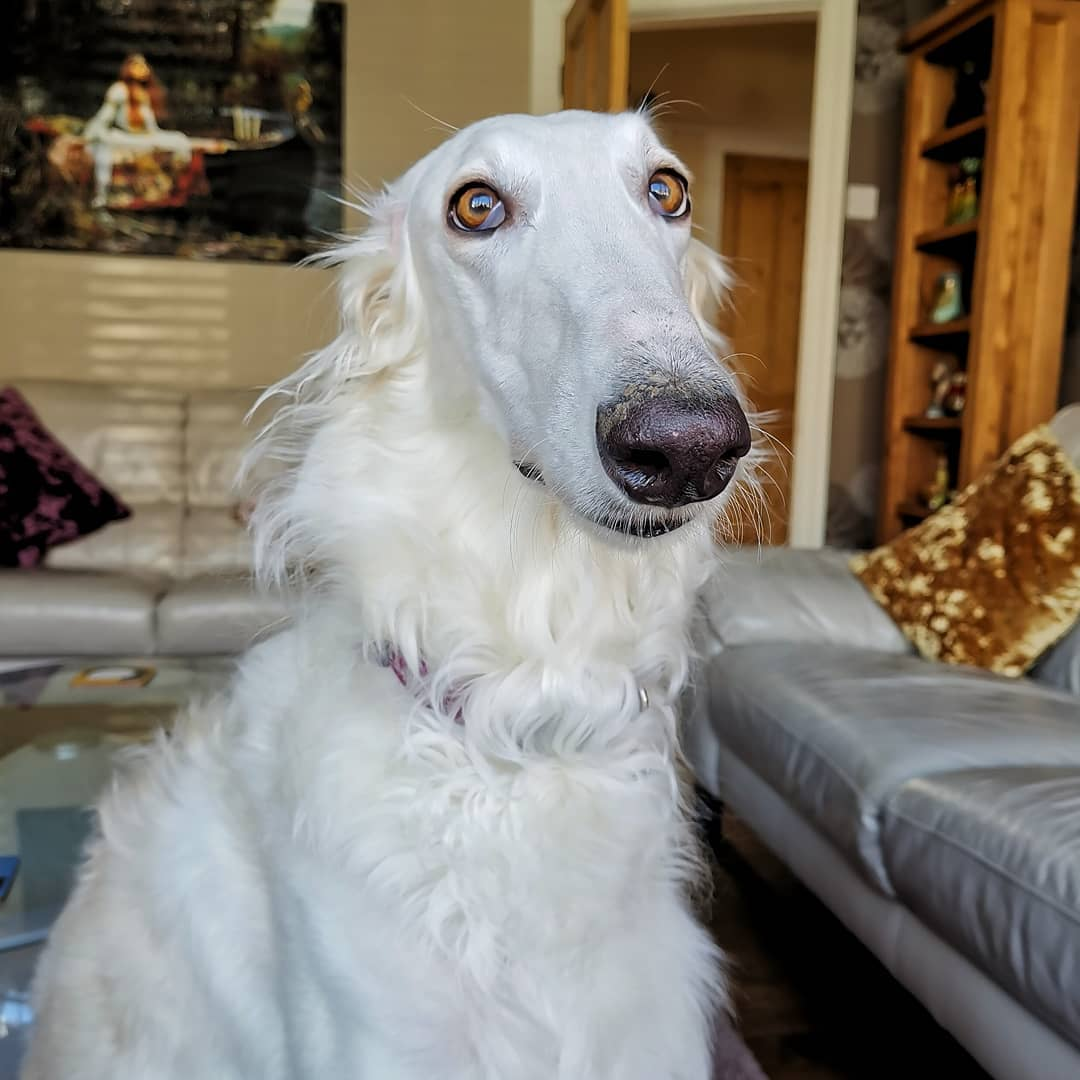borzoi: (18, 84, 839, 1076)
